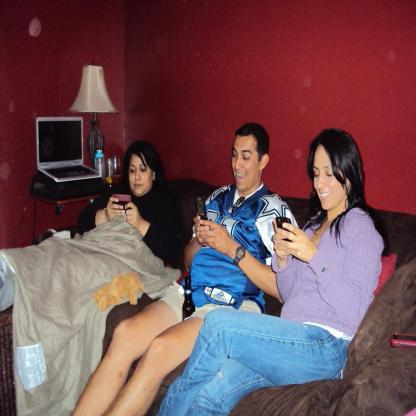board: (34, 114, 99, 184), (95, 150, 106, 181)
